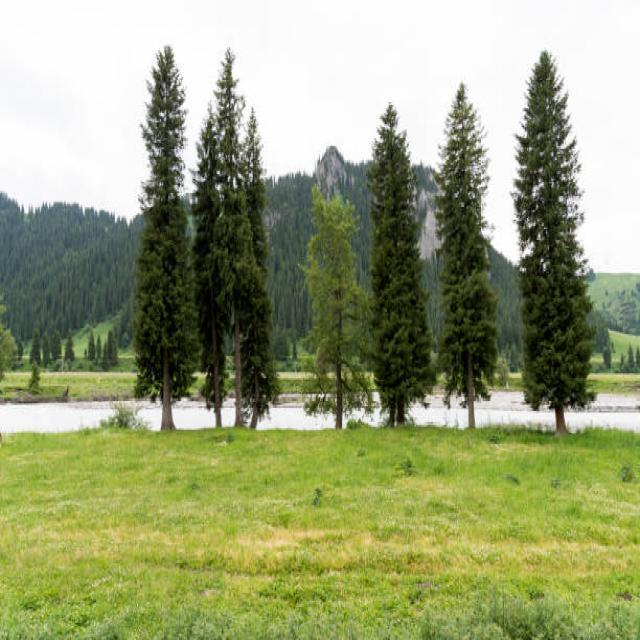Tree: (507, 43, 595, 431), (189, 45, 268, 428), (130, 42, 197, 434), (432, 83, 494, 422), (364, 102, 427, 422), (300, 152, 372, 432)
